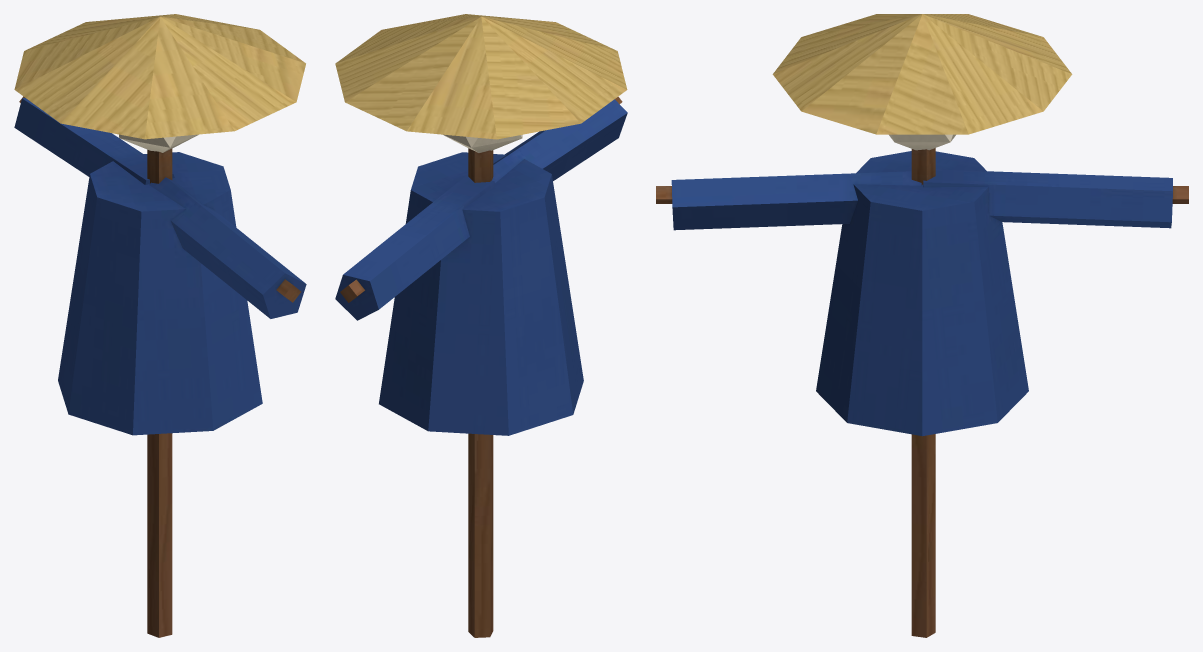
The model's file is kakashi_tex.glb.
The picture shows the model from 3 angles, left to right: view 1: azimuth 30°, elevation 25°; view 2: azimuth 150°, elevation 25°; view 3: azimuth 270°, elevation 25°; orthographic projection.
Parts seen in each view (by area): view 1: kakashi; view 2: kakashi; view 3: kakashi.
Boxes of the visible parts, box(x1,y1,x2,y2) form: kakashi: box(14, 14, 306, 637); kakashi: box(335, 14, 627, 637); kakashi: box(656, 14, 1188, 637).
Size of the model in its own units: 0.856 by 2.05 by 1.6.
Materials: 5 (4 with a texture image).
